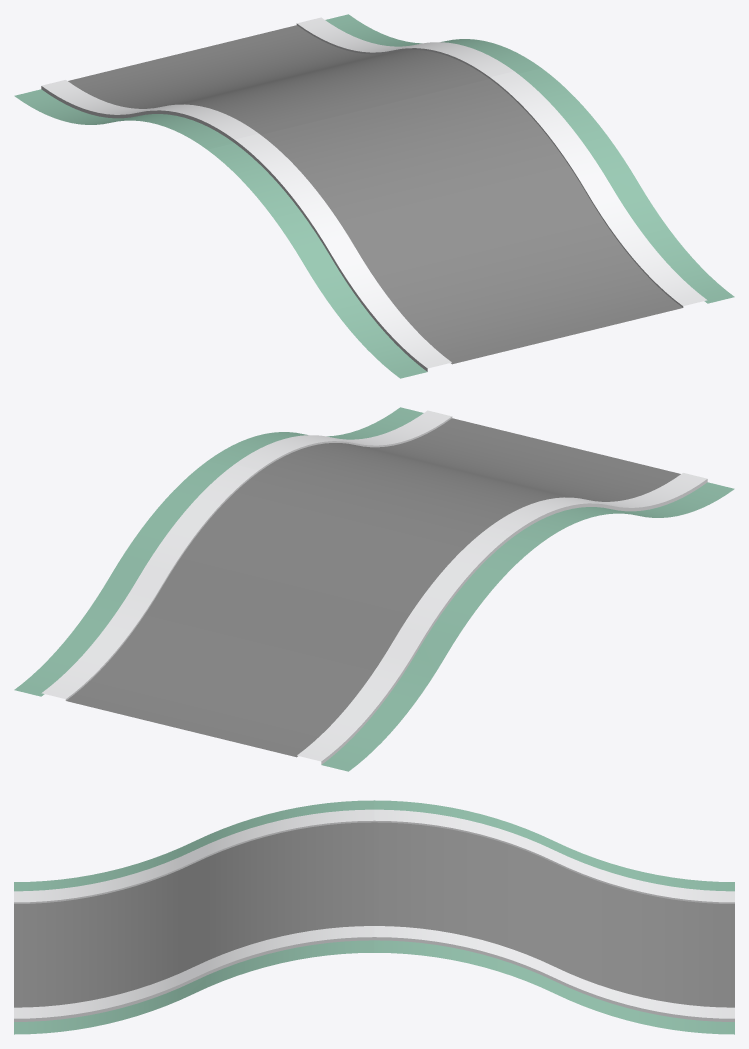
File: roadStraightLongBump.glb
3 views of the same model, one above another, from view 1: azimuth 30°, elevation 25°; view 2: azimuth 150°, elevation 25°; view 3: azimuth 270°, elevation 25° (orthographic). The views are drawn at different scales.
Visible parts, largest first — view 1: roadStraightLongBump; view 2: roadStraightLongBump; view 3: roadStraightLongBump.
Part boxes in pixels (<box>): roadStraightLongBump: <box>14,14,734,378</box>; roadStraightLongBump: <box>14,407,734,771</box>; roadStraightLongBump: <box>14,800,734,1034</box>.
Size of the model in its own units: 1 by 0.26 by 2.
